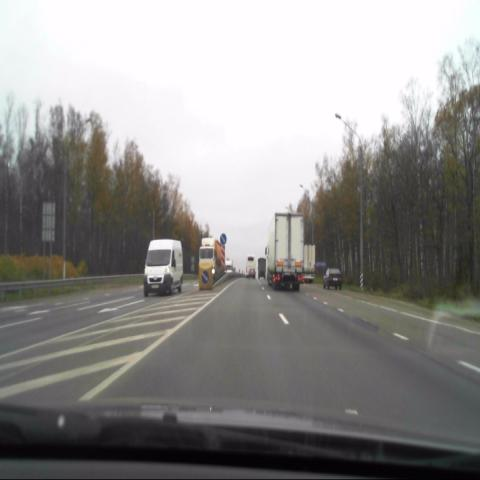4_2_1: (202, 270, 208, 283), (220, 232, 226, 244)
